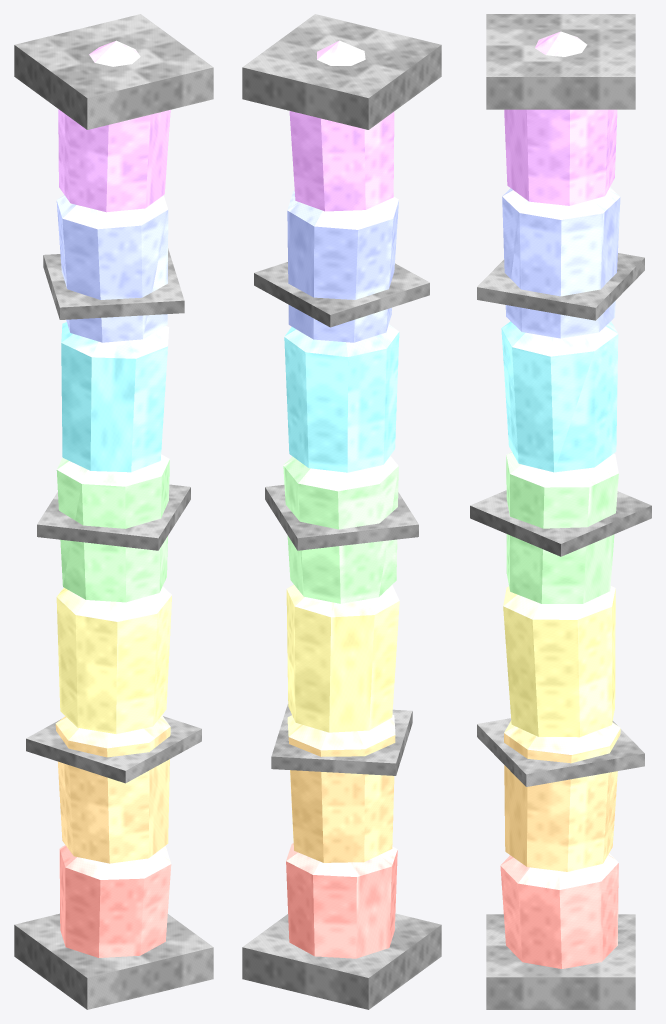
The model's file is architecture-crystal-beam-4m.glb.
The picture shows the model from 3 angles, left to right: view 1: azimuth 30°, elevation 25°; view 2: azimuth 150°, elevation 25°; view 3: azimuth 270°, elevation 25°; orthographic projection. The views are drawn at different scales.
Parts seen in each view (by area): view 1: top-collar, segment-2, segment-4, segment-1, segment-3, segment-5, segment-0, segment-6, base-collar, brace-1, brace-3, brace-2; view 2: top-collar, segment-4, segment-2, segment-3, segment-5, segment-1, segment-0, base-collar, segment-6, brace-3, brace-2, brace-1; view 3: segment-4, segment-2, top-collar, segment-5, segment-1, segment-3, segment-0, segment-6, base-collar, brace-2, brace-3, brace-1.
Part boxes in pixels (left/top/right/bottom): top-collar: left=14, top=14, right=213, bottom=129; segment-2: left=56, top=586, right=171, bottom=733; segment-4: left=61, top=322, right=169, bottom=472; segment-1: left=55, top=715, right=170, bottom=863; segment-3: left=56, top=454, right=169, bottom=602; segment-5: left=56, top=195, right=168, bottom=342; segment-0: left=59, top=845, right=171, bottom=957; segment-6: left=58, top=40, right=170, bottom=212; base-collar: left=14, top=913, right=213, bottom=1009; brace-1: left=26, top=716, right=201, bottom=783; brace-3: left=43, top=248, right=184, bottom=319; brace-2: left=37, top=484, right=190, bottom=550; top-collar: left=242, top=14, right=441, bottom=129; segment-4: left=284, top=324, right=399, bottom=472; segment-2: left=286, top=585, right=399, bottom=732; segment-3: left=283, top=456, right=398, bottom=603; segment-5: left=287, top=190, right=398, bottom=342; segment-1: left=287, top=714, right=395, bottom=862; segment-0: left=286, top=843, right=397, bottom=958; base-collar: left=242, top=913, right=441, bottom=1009; segment-6: left=289, top=40, right=394, bottom=211; brace-3: left=254, top=262, right=429, bottom=327; brace-2: left=265, top=485, right=418, bottom=550; brace-1: left=271, top=704, right=412, bottom=775; segment-4: left=501, top=321, right=618, bottom=472; segment-2: left=503, top=586, right=615, bottom=737; top-collar: left=486, top=14, right=635, bottom=109; segment-5: left=502, top=187, right=620, bottom=338; segment-1: left=504, top=720, right=620, bottom=871; segment-3: left=506, top=452, right=618, bottom=603; segment-0: left=500, top=853, right=618, bottom=968; segment-6: left=504, top=31, right=617, bottom=205; base-collar: left=486, top=914, right=635, bottom=1009; brace-2: left=470, top=490, right=651, bottom=556; brace-3: left=477, top=253, right=644, bottom=320; brace-1: left=477, top=718, right=644, bottom=786.
Bounding box in the file's own units: 0.7071 × 4.09 × 0.7071.
Materials: 8 (8 with a texture image).
